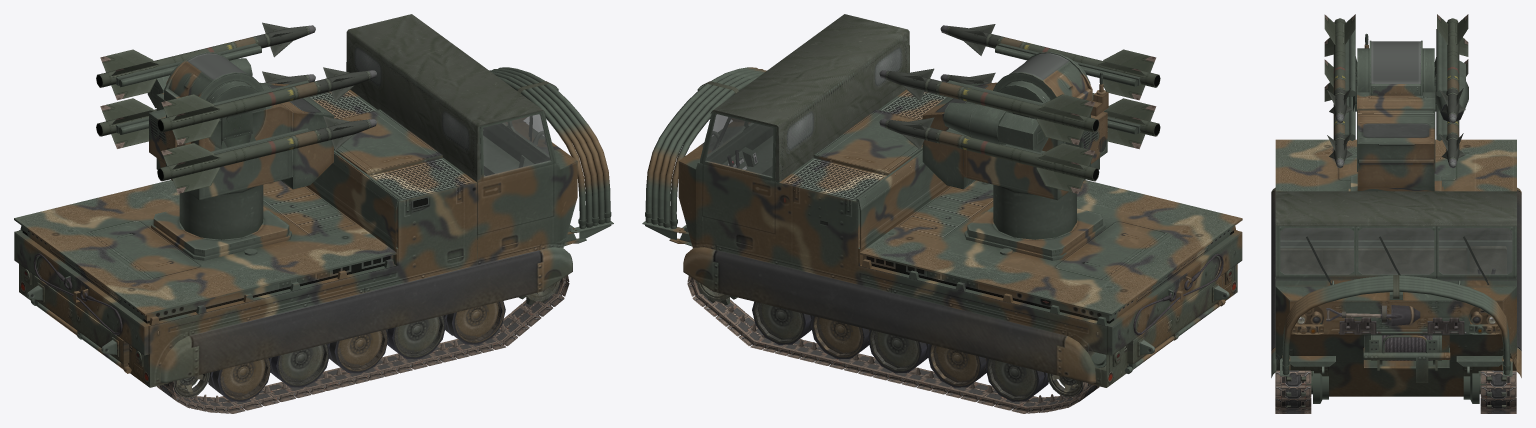
File: m48_chaparral.glb
3 views of the same model, side by side, from view 1: azimuth 30°, elevation 25°; view 2: azimuth 150°, elevation 25°; view 3: azimuth 270°, elevation 25° (orthographic). The views are drawn at different scales.
Parts seen in each view (by area): view 1: hull, sideplates, canvas, mount, platform, track2, tubes4cover, ammo, ammo2, hatch2, mount2, ammo3 (+18 smaller); view 2: hull, sideplates, canvas, mount, platform, track, tubes4cover, mount2, ammo3, ammo4, hatch, ammo (+16 smaller); view 3: hull, canvas, glass, mount, frontcabin, tubes4cover, mount2, glass.001, ammo3, ammo, sideplates, track2 (+11 smaller).
Part boxes in pixels (box(x1,y1,x2,y2)): hull: box(14, 81, 613, 387); sideplates: box(160, 247, 572, 382); canvas: box(346, 14, 545, 181); mount: box(149, 57, 333, 200); platform: box(151, 185, 291, 260); track2: box(157, 275, 569, 413); tubes4cover: box(489, 67, 611, 228); ammo: box(157, 67, 376, 144); ammo2: box(157, 116, 376, 193); hatch2: box(481, 164, 553, 233); mount2: box(116, 43, 310, 166); ammo3: box(96, 22, 315, 100); hull: box(642, 81, 1242, 387); sideplates: box(683, 247, 1095, 383); canvas: box(710, 14, 909, 181); mount: box(922, 57, 1108, 200); platform: box(964, 184, 1105, 260); track: box(687, 276, 1099, 413); tubes4cover: box(645, 67, 766, 228); mount2: box(943, 43, 1140, 166); ammo3: box(879, 68, 1099, 144); ammo4: box(879, 117, 1099, 193); hatch: box(702, 164, 774, 233); ammo: box(940, 24, 1160, 100); hull: box(1275, 139, 1516, 396); canvas: box(1275, 191, 1516, 240); glass: box(1280, 227, 1512, 274); mount: box(1357, 33, 1435, 191); frontcabin: box(1280, 246, 1506, 274); tubes4cover: box(1282, 275, 1510, 374); mount2: box(1345, 29, 1468, 140); glass.001: box(1371, 41, 1420, 83); ammo3: box(1437, 14, 1468, 123); ammo: box(1324, 14, 1355, 123); sideplates: box(1271, 187, 1521, 377); track2: box(1275, 370, 1311, 413).
Bounding box in the file's own units: 5.63 × 3.19 × 2.7.
Materials: 6 (6 with a texture image).
